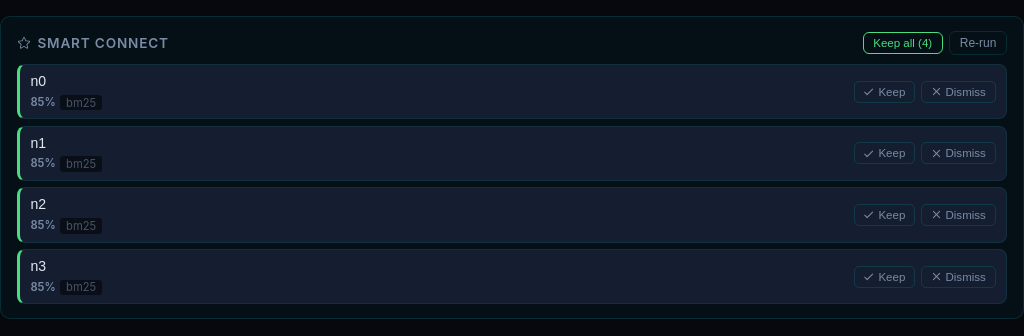
components/SuggestionsPanel.vue › Keep-all with N = 4 shows inline confirmation before promoting
Click the button with class "suggestions__btn--keep-all". click: [903, 43]
box: left=863, top=32, right=943, bottom=54
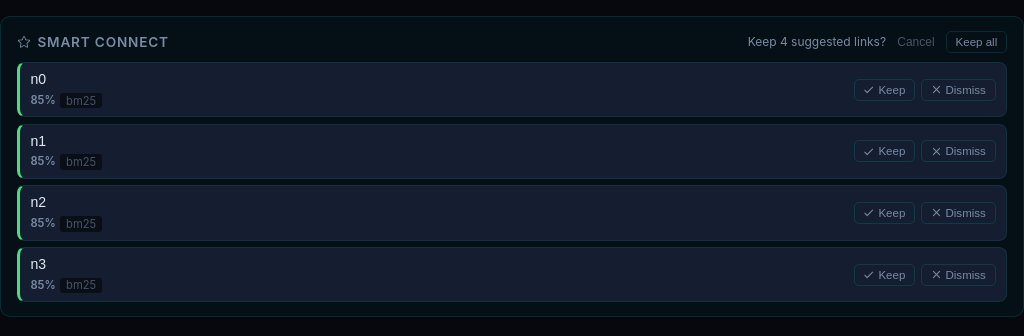
Expected: the text "Keep 4 suggested links?" is shown, left=748, top=34, right=886, bottom=49
